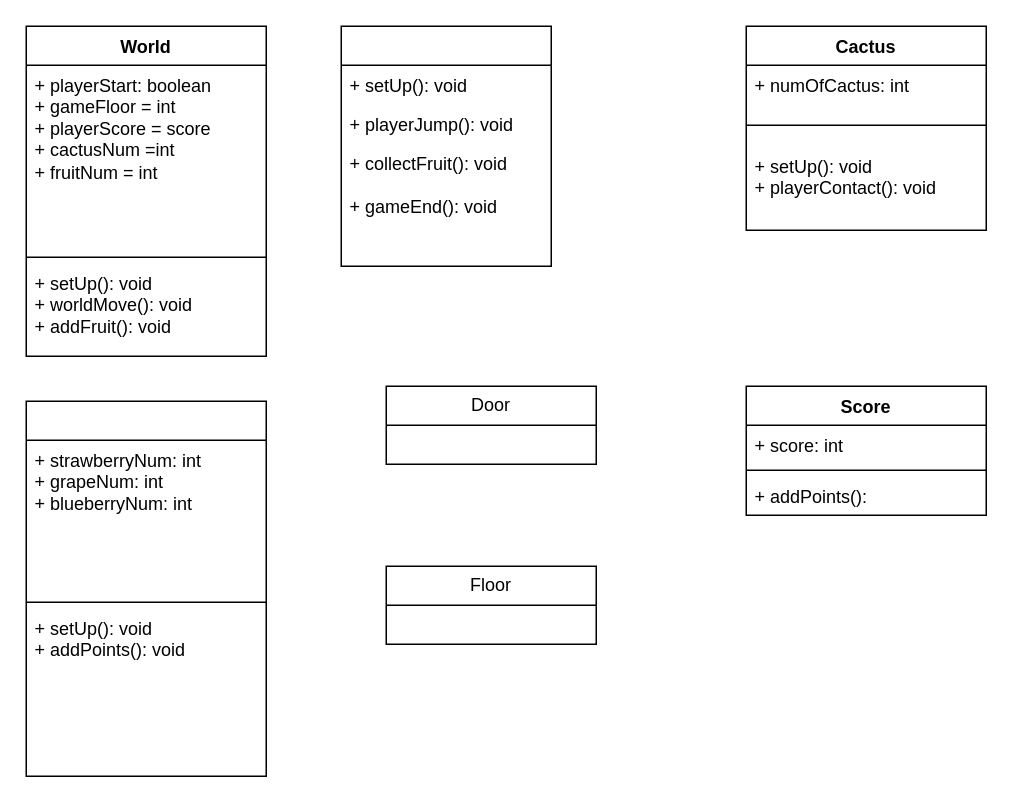
This 1013x807 diagram has some shape labels left out. Each missing label, with the box of its shape:
Fruit: (25, 400, 266, 776)
Hedgehog: (340, 25, 551, 266)
